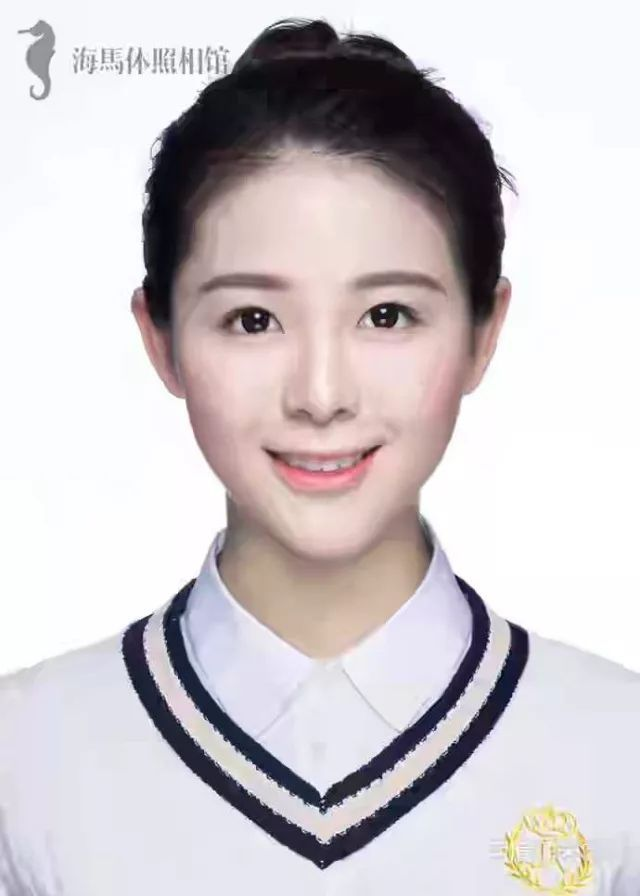unmask: (158, 208, 492, 535)
